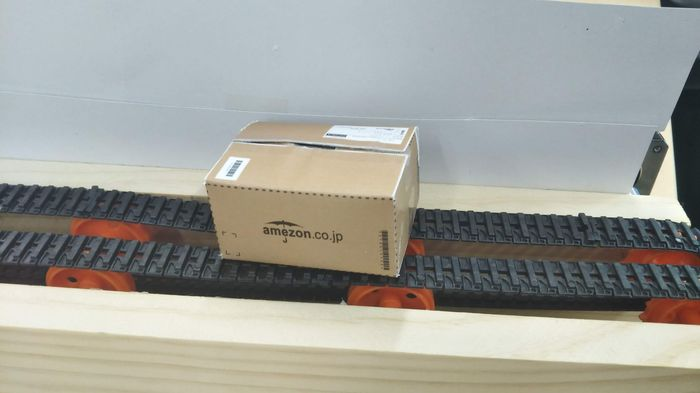box1: (201, 119, 421, 278)
